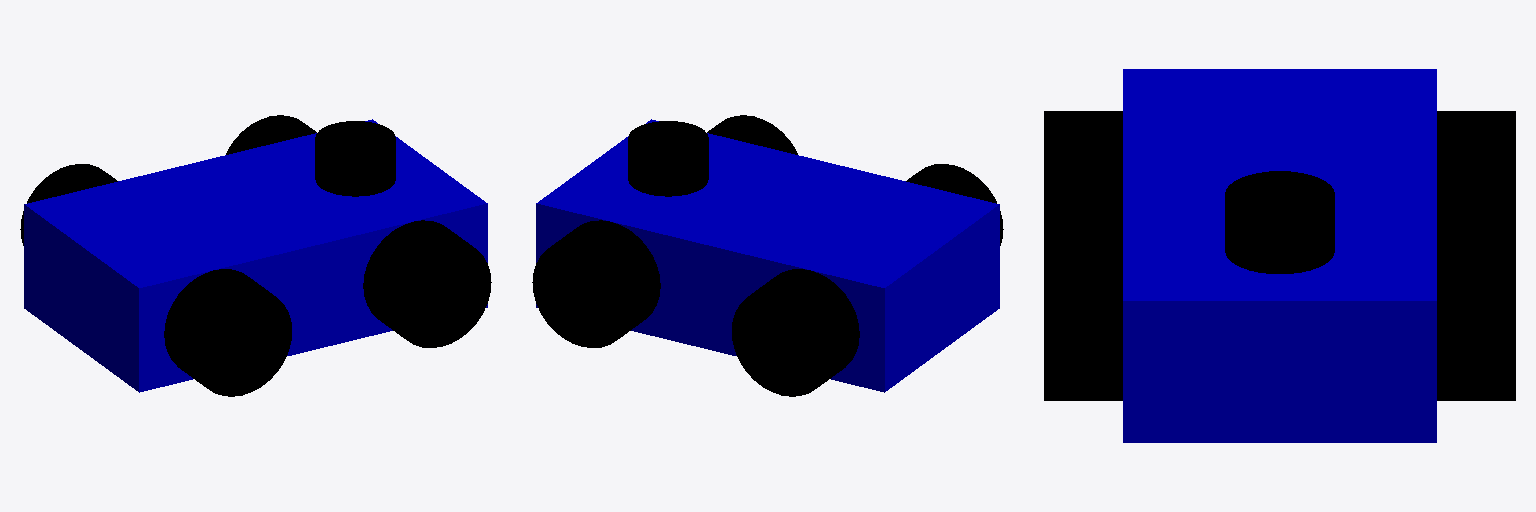
robot.urdf — esp32_char:
<?xml version="1.0"?>
<robot name="esp32_char">

  <material name="blue"> <color rgba="0 0 0.8 1"/> </material>
  <material name="black"> <color rgba="0 0 0 1"/> </material>

  <link name="base_link">
    <visual>
      <geometry> <box size="0.35 0.2 0.1"/> </geometry>
      <material name="blue"/>
    </visual>
  </link>














  <link name="rear_left_wheel">
    <visual>
      <geometry> <cylinder length="0.05" radius="0.05"/> </geometry>
      <material name="black"/>
      <origin rpy="1.57075 0 0" xyz="0 0 0"/>
    </visual>
  </link>
  <joint name="joint_rear_left_wheel" type="continuous">
    <parent link="base_link"/>
    <child link="rear_left_wheel"/>
    <origin xyz="-0.1 0.125 0"/>
    <axis xyz="0 1 0"/>
  </joint>
















  <link name="front_left_wheel">
    <visual>
      <geometry> <cylinder length="0.05" radius="0.05"/> </geometry>
      <material name="black"/>
      <origin rpy="1.57075 0 0" xyz="0 0 0"/>
    </visual>
  </link>
  <joint name="joint_front_left_wheel" type="continuous">
    <parent link="base_link"/>
    <child link="front_left_wheel"/>
    <origin xyz="0.1 0.125 0"/>
    <axis xyz="0 1 0"/>
  </joint>










  <link name="rear_right_wheel">
    <visual>
      <geometry> <cylinder length="0.05" radius="0.05"/> </geometry>
      <material name="black"/>
      <origin rpy="1.57075 0 0" xyz="0 0 0"/>
    </visual>
  </link>
  <joint name="joint_rear_right_wheel" type="continuous">
    <parent link="base_link"/>
    <child link="rear_right_wheel"/>
    <origin xyz="-0.1 -0.125 0"/>
    <axis xyz="0 1 0"/>
  </joint>






  <link name="front_right_wheel">
    <visual>
      <geometry> <cylinder length="0.05" radius="0.05"/> </geometry>
      <material name="black"/>
      <origin rpy="1.57075 0 0" xyz="0 0 0"/>
    </visual>
  </link>
  <joint name="joint_front_right_wheel" type="continuous">
    <parent link="base_link"/>
    <child link="front_right_wheel"/>
    <origin xyz="0.1 -0.125 0"/>
    <axis xyz="0 1 0"/>
  </joint>





<link name="laser">
    <visual>
      <geometry> <cylinder length="0.04" radius="0.035"/> </geometry>
      <material name="black"/>
    </visual>
  </link>

  <joint name="joint_laser" type="fixed">
    <parent link="base_link"/>
    <child link="laser"/>
    <origin xyz="0.1 0 0.07" rpy="0 0 0"/>
  </joint>



</robot>

--- What the picture shows (computed from the rendered views, not written in the file) ---
The picture shows the robot from 3 angles, left to right: view 1: azimuth 30°, elevation 25°; view 2: azimuth 150°, elevation 25°; view 3: azimuth 270°, elevation 25°; orthographic projection.
Model esp32_char with 6 links and 5 joints (4 continuous, 1 fixed), rooted at base_link, posed all joints at 0.
Links seen in each view (by area): view 1: base_link, front_right_wheel, rear_right_wheel, laser, rear_left_wheel, front_left_wheel; view 2: base_link, front_left_wheel, rear_left_wheel, laser, rear_right_wheel, front_right_wheel; view 3: base_link, front_left_wheel, front_right_wheel, rear_left_wheel, rear_right_wheel, laser.
Boxes of the visible links, x1,y1,x2,y2 form: base_link: (24, 119, 487, 392); front_right_wheel: (363, 220, 491, 347); rear_right_wheel: (164, 269, 291, 396); laser: (315, 121, 395, 196); rear_left_wheel: (20, 164, 117, 245); front_left_wheel: (226, 115, 316, 154); base_link: (536, 119, 999, 392); front_left_wheel: (532, 220, 660, 347); rear_left_wheel: (732, 269, 859, 396); laser: (628, 121, 708, 196); rear_right_wheel: (906, 164, 1003, 245); front_right_wheel: (707, 115, 797, 154); base_link: (1123, 69, 1436, 442); front_left_wheel: (1437, 244, 1515, 400); front_right_wheel: (1044, 244, 1122, 400); rear_left_wheel: (1437, 111, 1515, 243); rear_right_wheel: (1044, 111, 1122, 243); laser: (1225, 171, 1334, 273).
Bounding box of the posed robot: 0.35 × 0.3 × 0.14 m (x, y, z).
Geometry: primitives only (box / cylinder / sphere), no mesh files.
